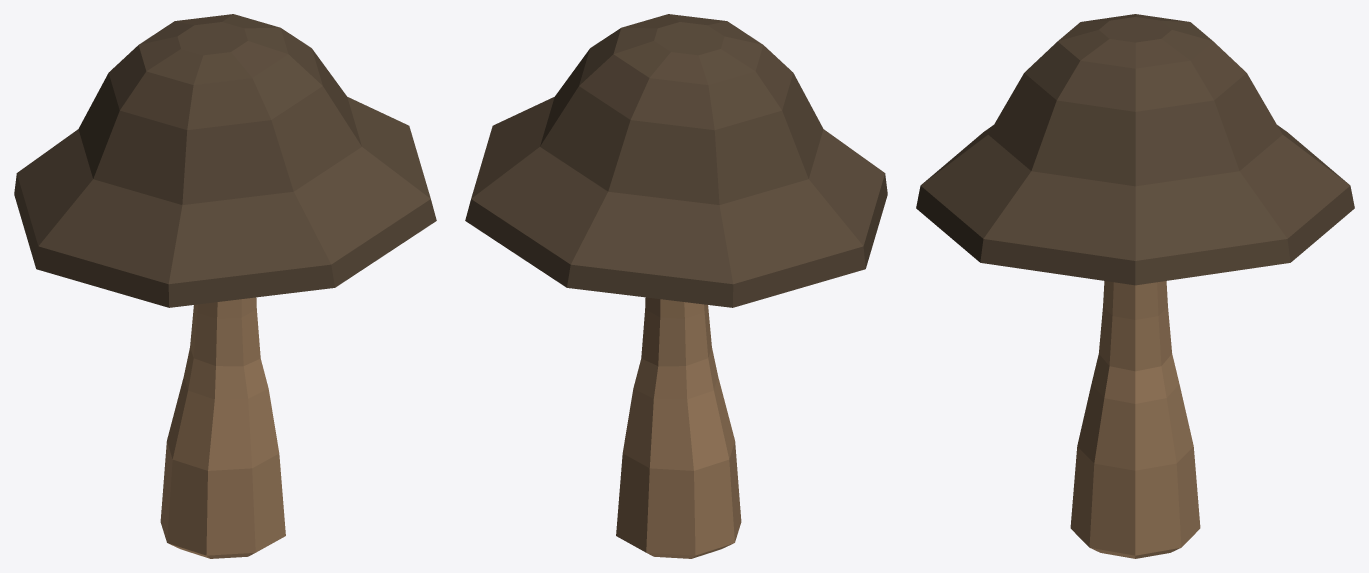
The model's file is Mushroom 3.fbx.
3 renders of one model, left to right at view 1: azimuth 30°, elevation 25°; view 2: azimuth 150°, elevation 25°; view 3: azimuth 270°, elevation 25°, orthographic.
Parts seen in each view (by area): view 1: Mushroom 2; view 2: Mushroom 2; view 3: Mushroom 2.
Part boxes in pixels (x1,y1,x2,y2): Mushroom 2: (14, 14, 436, 558); Mushroom 2: (465, 14, 887, 558); Mushroom 2: (916, 14, 1354, 558).
Bounding box in the file's own units: 14.79 × 18.86 × 14.83.
